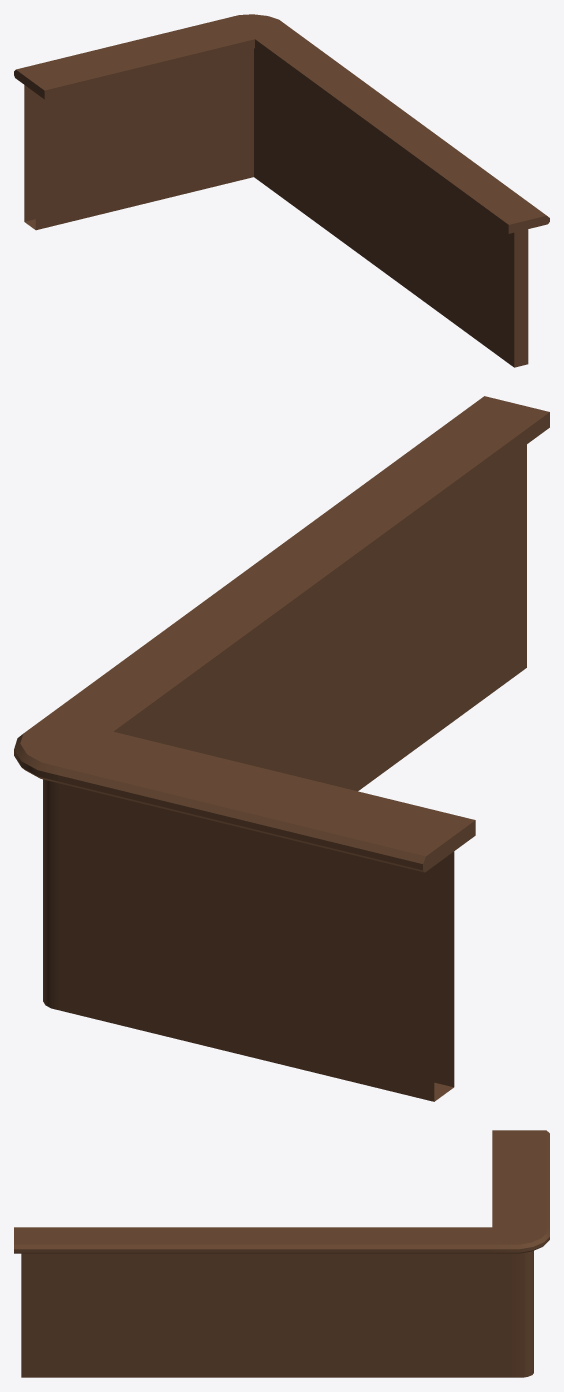
Rendered from Barra.fbx.
3 renders of one model, top to bottom at view 1: azimuth 30°, elevation 25°; view 2: azimuth 150°, elevation 25°; view 3: azimuth 270°, elevation 25°, orthographic. The views are drawn at different scales.
Parts seen in each view (by area): view 1: pCube70; view 2: pCube70; view 3: pCube70.
Part boxes in pixels (x1,y1,x2,y2): pCube70: (14, 14, 549, 367); pCube70: (14, 396, 549, 1101); pCube70: (14, 1130, 549, 1377).
Size of the model in its own units: 8.42 by 4.73 by 16.47.
